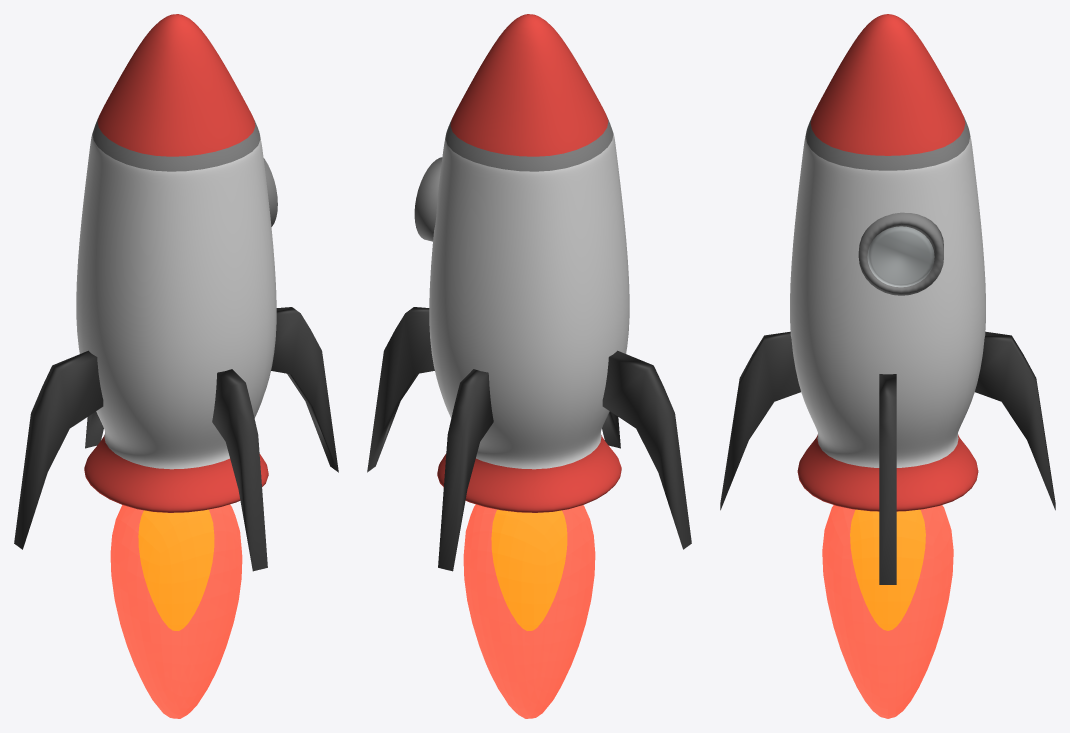
The model's file is rocket.glb.
The picture shows the model from 3 angles, left to right: view 1: azimuth 30°, elevation 25°; view 2: azimuth 150°, elevation 25°; view 3: azimuth 270°, elevation 25°; orthographic projection.
Parts seen in each view (by area): view 1: rocket, Cube.005, fire, Cube.004, Cube.002, Cube.003; view 2: rocket, Cube.005, fire, Cube.004, Cube.001, Cube.003, Circle; view 3: rocket, Cube.005, fire, Circle, Cube.001, Cube.002, Cube.003, Circle.001.
Boxes of the visible parts, x1,y1,x2,y2 form: rocket: (76, 14, 276, 512); Cube.005: (110, 504, 242, 718); fire: (138, 509, 214, 630); Cube.004: (14, 350, 103, 549); Cube.002: (212, 369, 267, 571); Cube.003: (271, 307, 338, 472); rocket: (429, 14, 629, 512); Cube.005: (463, 504, 595, 718); fire: (491, 509, 567, 630); Cube.004: (602, 350, 691, 549); Cube.001: (438, 369, 493, 571); Cube.003: (367, 307, 434, 472); Circle: (414, 157, 442, 241); rocket: (790, 14, 985, 511); Cube.005: (822, 505, 953, 718); fire: (850, 509, 925, 630); Circle: (858, 212, 943, 295); Cube.001: (975, 331, 1055, 510); Cube.002: (720, 331, 800, 510); Cube.003: (879, 374, 896, 584); Circle.001: (867, 226, 934, 287).
Bounding box in the file's own units: 3.19 × 6.77 × 2.93.
